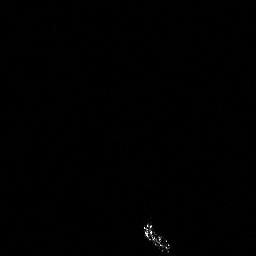ship: (140, 218, 174, 255)
